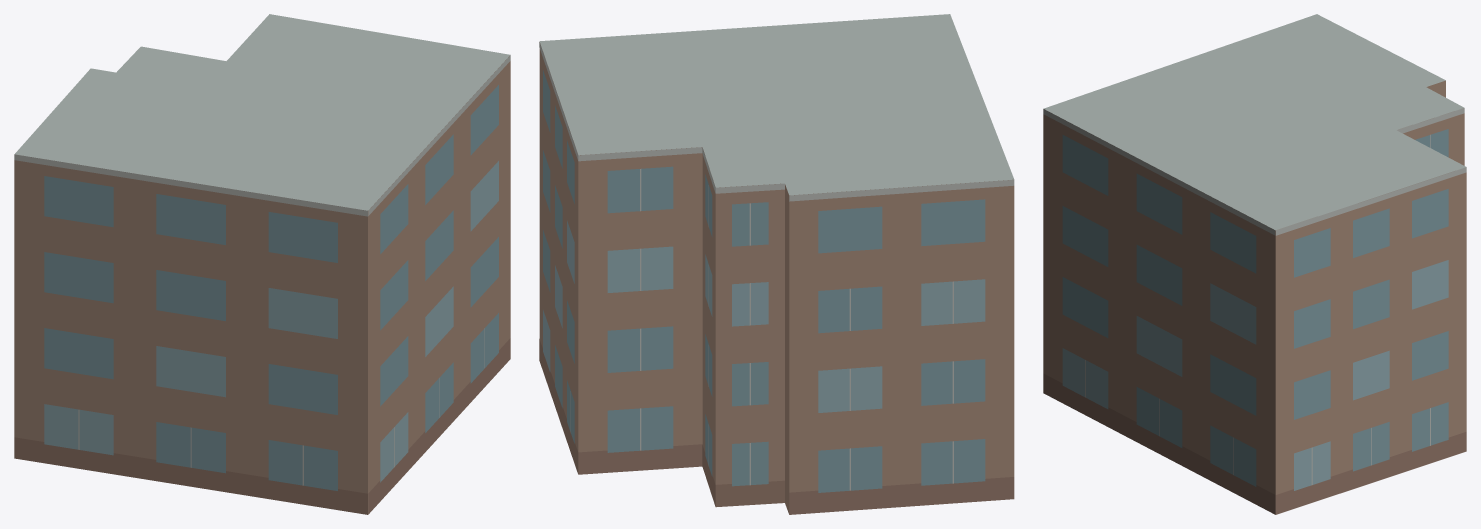
The model's file is survey-upis-33041052.glb.
The picture shows the model from 3 angles, left to right: view 1: azimuth 30°, elevation 25°; view 2: azimuth 150°, elevation 25°; view 3: azimuth 270°, elevation 25°; orthographic projection. The views are drawn at different scales.
Visible parts, largest first — view 1: survey-upis-33041052.tmp; view 2: survey-upis-33041052.tmp; view 3: survey-upis-33041052.tmp.
Boxes of the visible parts, bbox=[...] form: survey-upis-33041052.tmp: bbox=[14, 14, 510, 514]; survey-upis-33041052.tmp: bbox=[539, 14, 1014, 514]; survey-upis-33041052.tmp: bbox=[1043, 14, 1466, 514].
Size of the model in its own units: 20.9 by 12.8 by 17.27.
